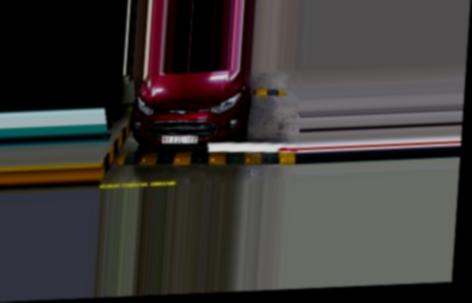License_Plate: (159, 134, 198, 147)
